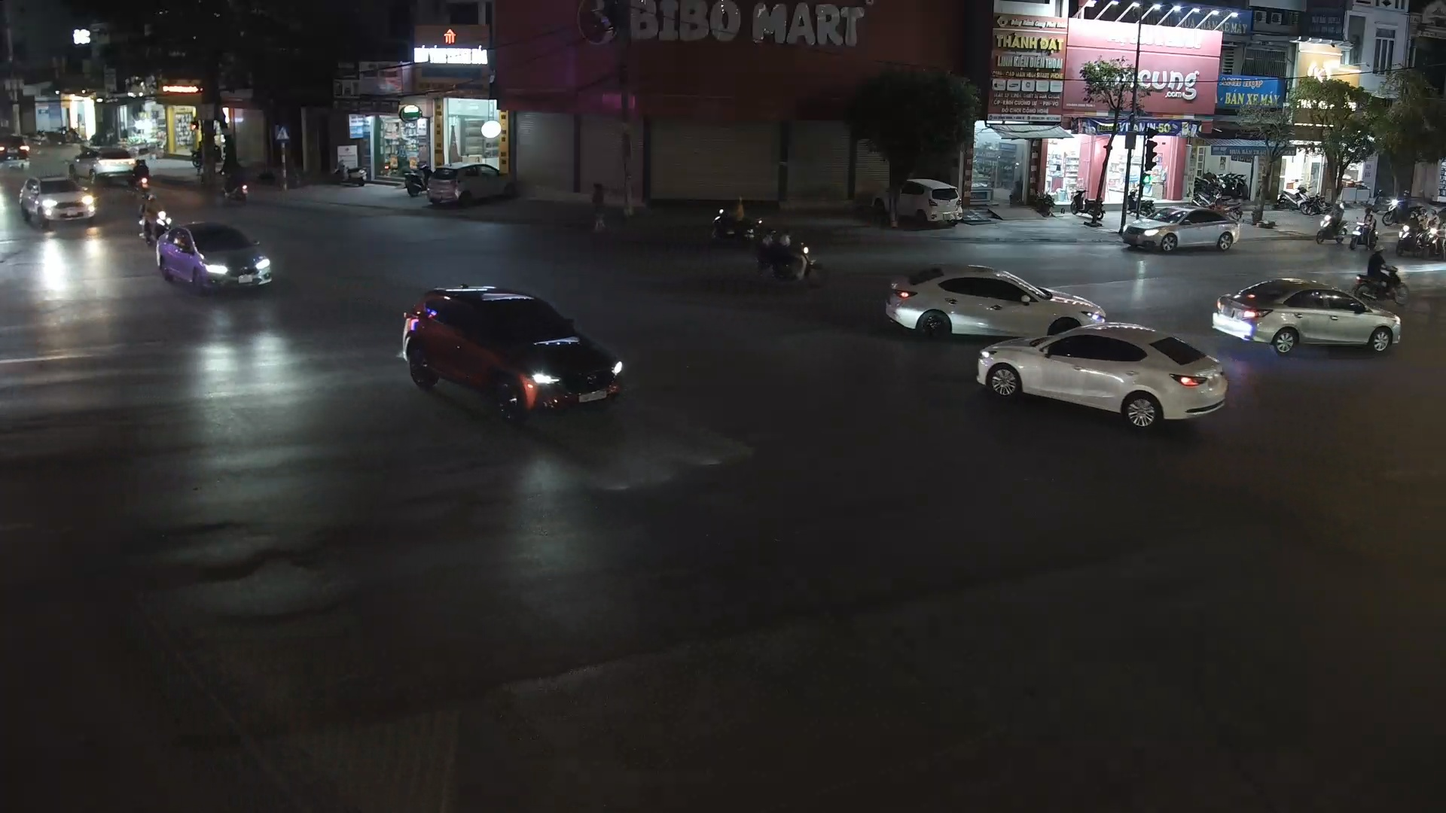car: (402, 284, 624, 425), (975, 320, 1232, 431), (881, 261, 1108, 343), (1212, 273, 1405, 357), (156, 214, 276, 297), (18, 171, 98, 228)
motorbike: (754, 227, 823, 290)
